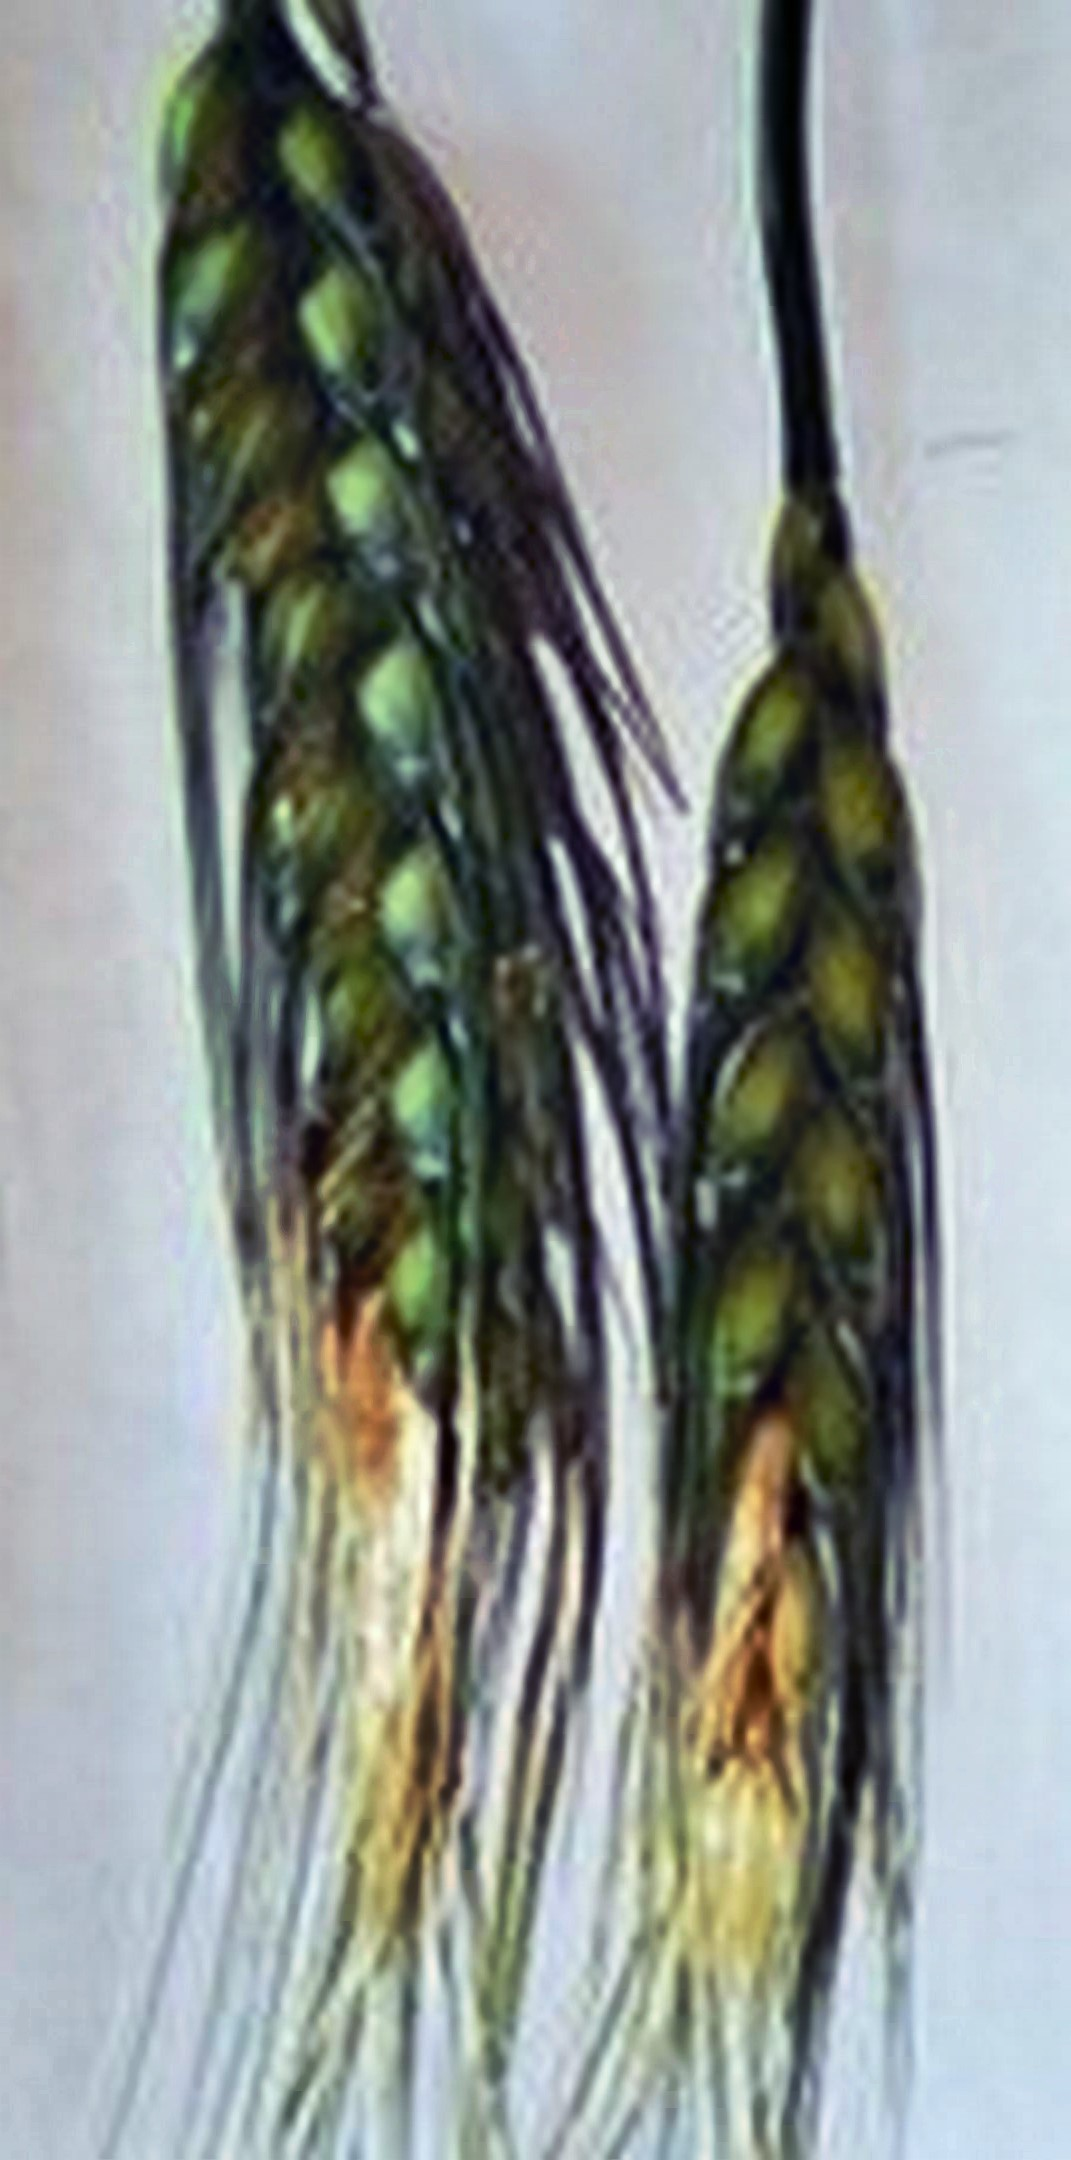Wheat scab: (85, 61, 580, 1980), (622, 508, 980, 2115)
